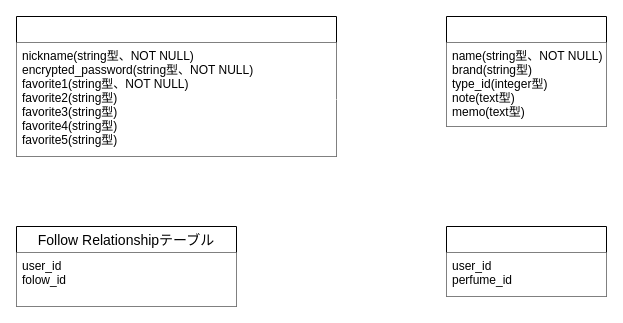
Some shapes in this 623 by 323 pixel diagram are drawn without their labels. Each missing label, with the box of its shape:
likesテーブル: (446, 226, 606, 296)
perfumesテーブル: (446, 16, 606, 126)
usersテーブル: (16, 16, 336, 156)
